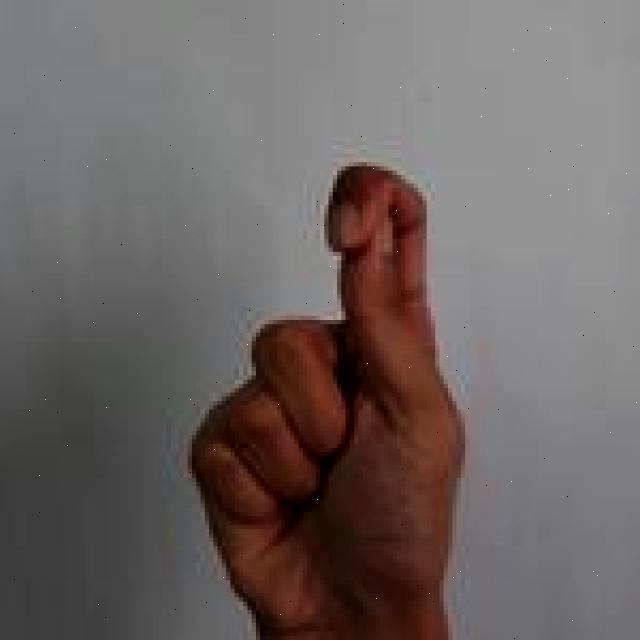T: (182, 154, 474, 640)
